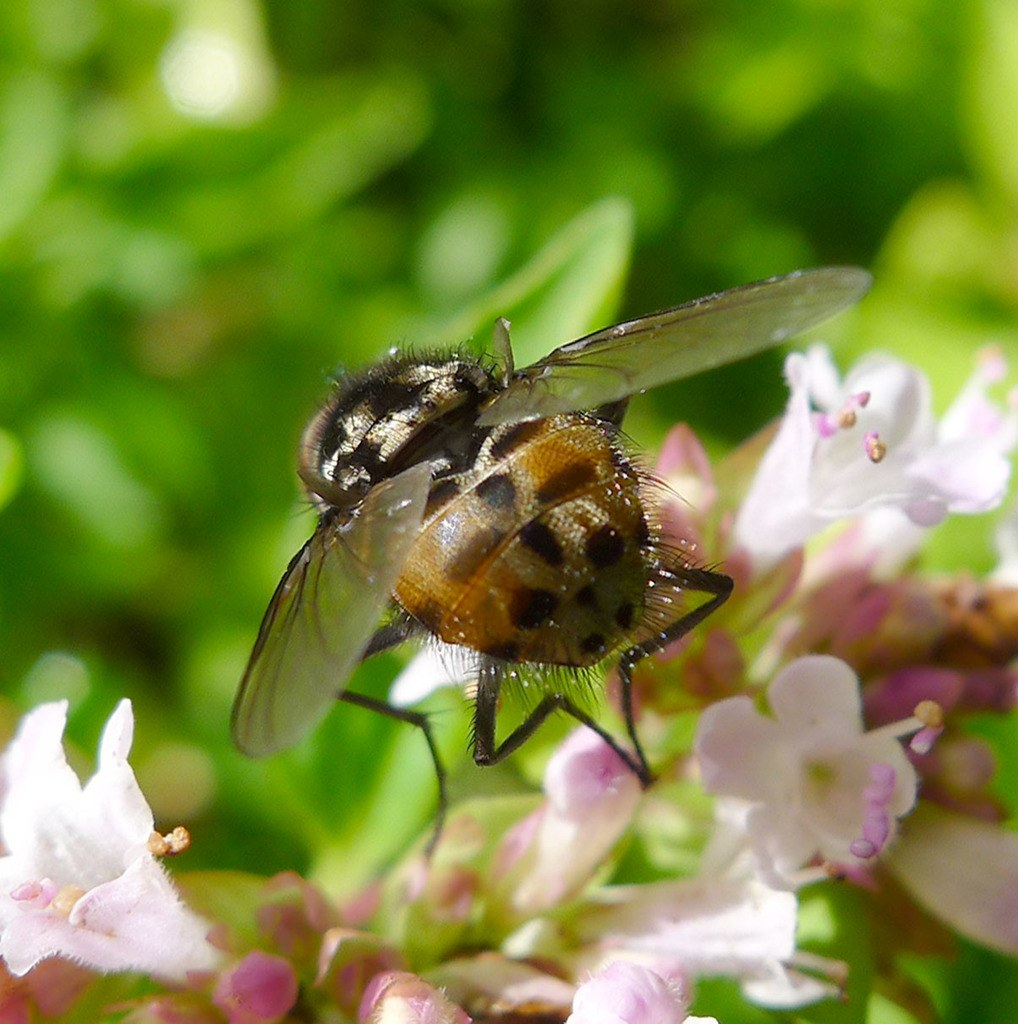bee: (222, 266, 837, 800)
insect: (0, 344, 1017, 1023), (695, 637, 947, 884)
